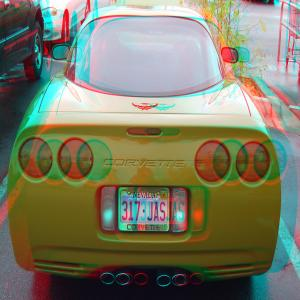Vehicle-registration-plate: (123, 191, 175, 240)
